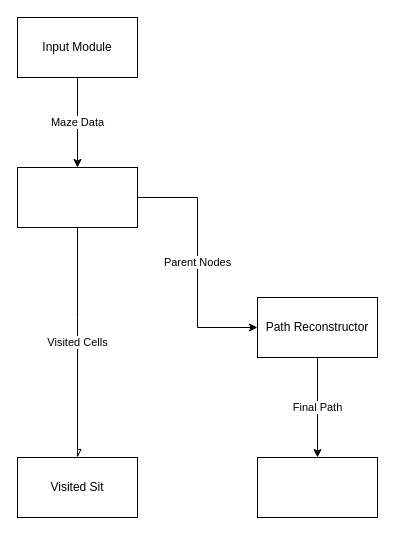
Some shapes in this 395 by 535 pixel diagram are drawn without their labels. The shapes that lost their labels are listed below. From the top down, each one's centre as x and y in pixels, then its label:
At pixel 77 197: "Search Engine".
At pixel 317 487: "Output Module".
